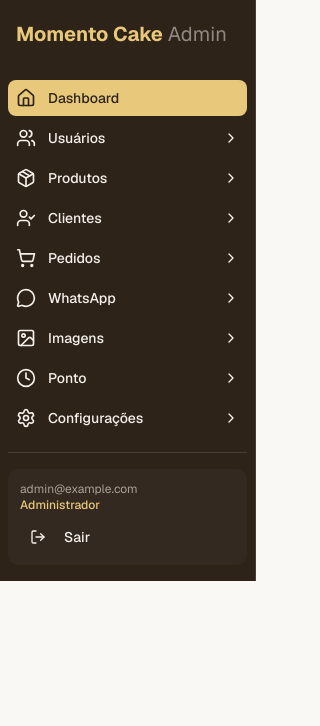
Test: Sidebar Component › Pedidos submenu › lists exactly the three destination entries
Click the button "Pedidos" at coordinates (128, 258), box [8,240,247,276]
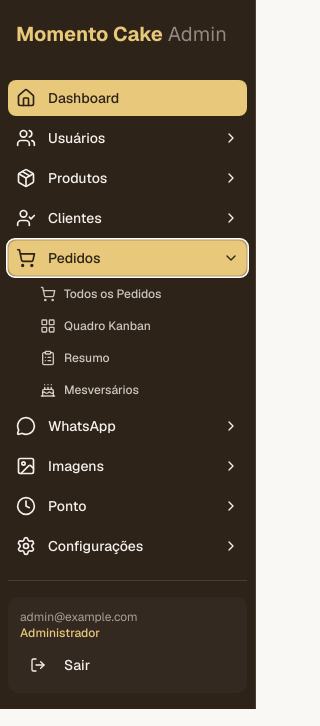
Expected: the link "Todos os Pedidos" is shown, [40,286,162,302]
Expected: the link "Quadro Kanban" is shown, [40,318,151,334]
Expected: the link "Resumo" is shown, [40,350,110,366]
